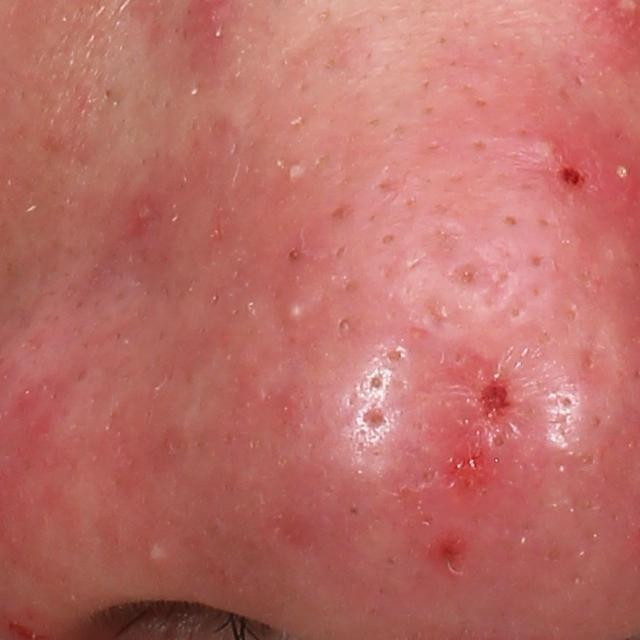comedo: (356, 369, 393, 400), (377, 344, 406, 366), (283, 244, 303, 262), (379, 229, 398, 247)
papule: (458, 369, 520, 433), (516, 123, 576, 177), (550, 161, 600, 205), (426, 533, 469, 580)
pustule: (140, 535, 171, 569), (280, 295, 309, 326), (279, 156, 308, 187)
